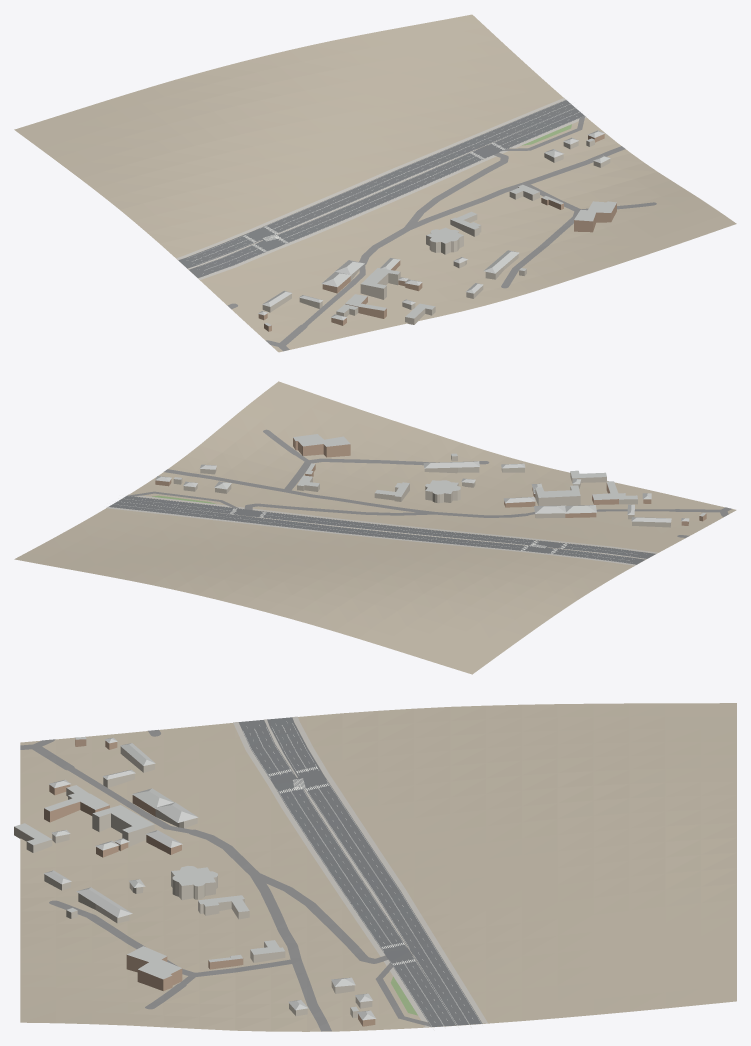
The model's file is bolak_12_-6.glb.
3 views of the same model, one above another, from view 1: azimuth 30°, elevation 25°; view 2: azimuth 150°, elevation 25°; view 3: azimuth 270°, elevation 25° (orthographic). The views are drawn at different scales.
Parts seen in each view (by area): view 1: Yer_Tuproq-col, Yol_Asfalt-col, Yol_Mahalla-col, Tom_Shifer, Trotuar, Devor_Suvoq-col, Devor_Gisht-col, Yol_Chiziq; view 2: Yer_Tuproq-col, Yol_Asfalt-col, Tom_Shifer, Yol_Mahalla-col, Devor_Suvoq-col, Trotuar, Devor_Gisht-col, Yol_Chiziq; view 3: Yer_Tuproq-col, Yol_Asfalt-col, Tom_Shifer, Yol_Mahalla-col, Devor_Suvoq-col, Trotuar, Devor_Gisht-col, Yol_Chiziq.
Part boxes in pixels (left/top/right/bottom): Yer_Tuproq-col: left=14, top=14, right=736, bottom=352; Yol_Asfalt-col: left=178, top=100, right=584, bottom=277; Yol_Mahalla-col: left=227, top=116, right=656, bottom=351; Tom_Shifer: left=258, top=130, right=616, bottom=326; Trotuar: left=176, top=98, right=586, bottom=279; Devor_Suvoq-col: left=262, top=140, right=610, bottom=324; Devor_Gisht-col: left=258, top=134, right=616, bottom=331; Yol_Chiziq: left=189, top=99, right=588, bottom=273; Yer_Tuproq-col: left=14, top=381, right=736, bottom=674; Yol_Asfalt-col: left=108, top=495, right=655, bottom=564; Tom_Shifer: left=155, top=434, right=706, bottom=522; Yol_Mahalla-col: left=128, top=429, right=731, bottom=537; Devor_Suvoq-col: left=173, top=454, right=670, bottom=527; Trotuar: left=106, top=494, right=657, bottom=565; Devor_Gisht-col: left=155, top=438, right=706, bottom=525; Yol_Chiziq: left=113, top=496, right=632, bottom=562; Yer_Tuproq-col: left=20, top=703, right=736, bottom=1031; Yol_Asfalt-col: left=238, top=717, right=482, bottom=1027; Tom_Shifer: left=14, top=737, right=375, bottom=1020; Yol_Mahalla-col: left=20, top=729, right=430, bottom=1031; Devor_Suvoq-col: left=14, top=746, right=372, bottom=1018; Trotuar: left=233, top=716, right=487, bottom=1027; Devor_Gisht-col: left=44, top=738, right=375, bottom=1026; Yol_Chiziq: left=243, top=721, right=482, bottom=1030.
Size of what is drawn, in the model's own units: 405 by 37.84 by 403.
